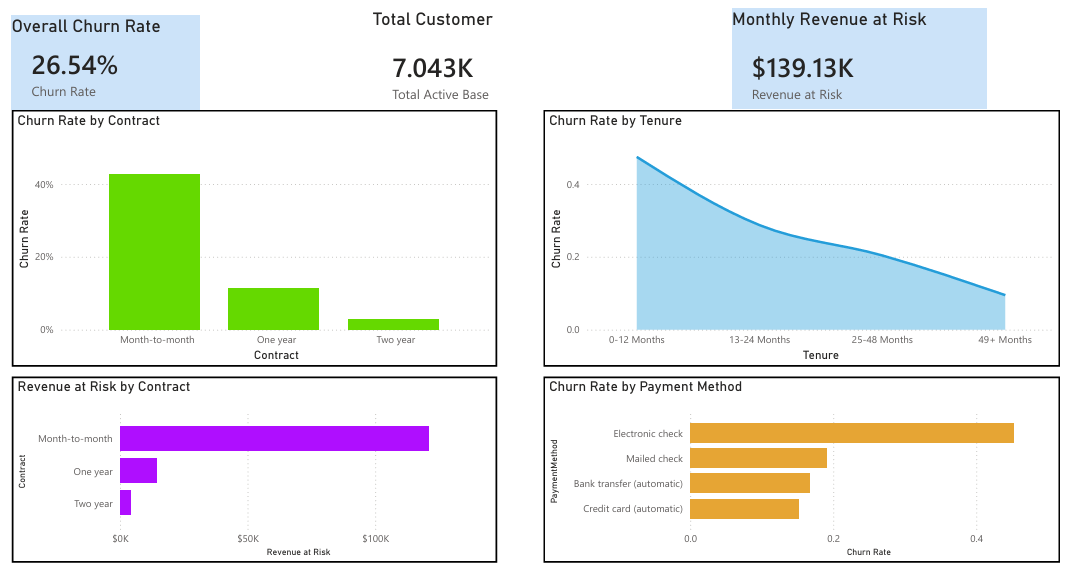

Layout of this report page (visuals, bound fields, positions):
{"tool":"powerbi","page":{"name":"Page 1","canvas":[1280,720],"ordinal":0},"visuals":[{"type":"clusteredBarChart","fields":{"Category":["churn_clean.Contract"],"Y":["churn_clean.Churn Rate"]},"box":[0,415,475.7,305.7],"z":0},{"type":"clusteredBarChart","fields":{"Category":["churn_clean.Contract"],"Y":["churn_clean.Revenue at Risk"]},"box":[788.3,415,491.7,305],"z":1000},{"type":"lineChart","title":"Churn Rate by Tenure","fields":{"Y":["churn_clean.Churn Rate"],"Category":["churn_clean.tenure_bucket"]},"box":[455,16.1,438.6,305.7],"z":2000},{"type":"cardVisual","fields":{"Data":["churn_clean.Churn Rate"]},"box":[300,358.3,175,106.7],"z":3000},{"type":"cardVisual","fields":{"Data":["Count(churn_clean.customerID)"]},"box":[685,16.7,208.3,123.3],"z":4000},{"type":"cardVisual","fields":{"Data":["churn_clean.Revenue at Risk"]},"box":[1095,360,185,105],"z":5000}]}

Visuals, with their boxes on the page's 1280x720 design canvas (x1, y1, x2, y2). These are canvas units, not pixel positions in the 1072x568 screenshot, which may show the page scaled, cropped or inside an application window:
clusteredBarChart - churn_clean.Contract x churn_clean.Churn Rate: box=[0, 415, 476, 721]
clusteredBarChart - churn_clean.Contract x churn_clean.Revenue at Risk: box=[788, 415, 1280, 720]
"Churn Rate by Tenure" lineChart: box=[455, 16, 894, 322]
cardVisual - churn_clean.Churn Rate: box=[300, 358, 475, 465]
cardVisual - Count(churn_clean.customerID): box=[685, 17, 893, 140]
cardVisual - churn_clean.Revenue at Risk: box=[1095, 360, 1280, 465]
